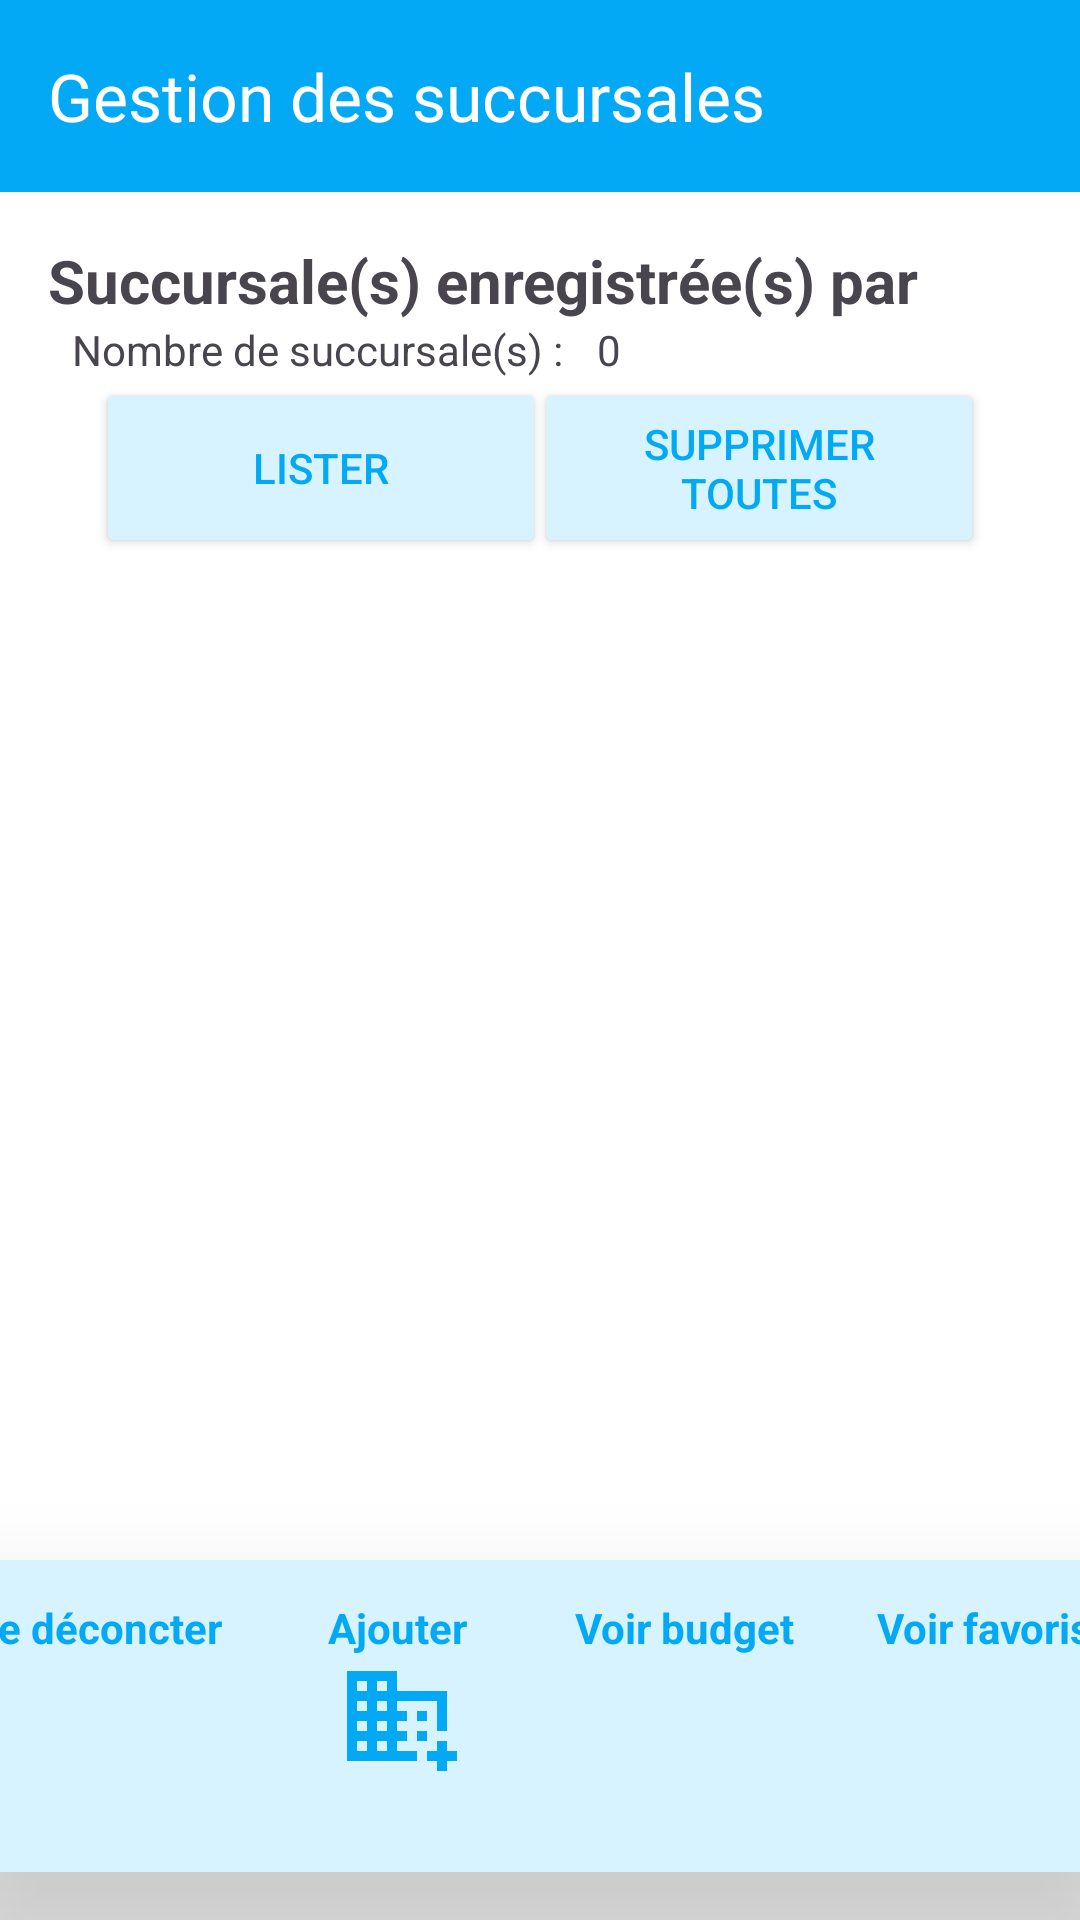

Point at icon controls on the screen. Image size 1080w x 1920h, points as [x,y].
domain add: [402,1721]
